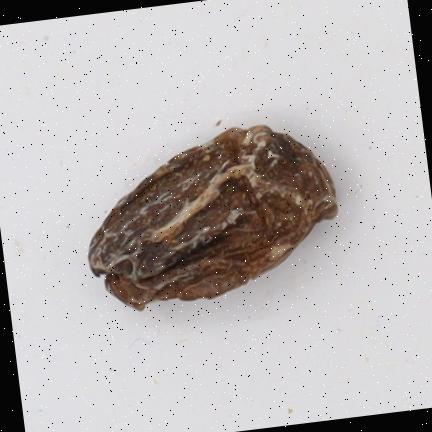husk: (88, 125, 337, 309)
